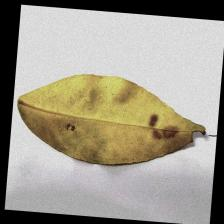black spot: (137, 110, 212, 154)
